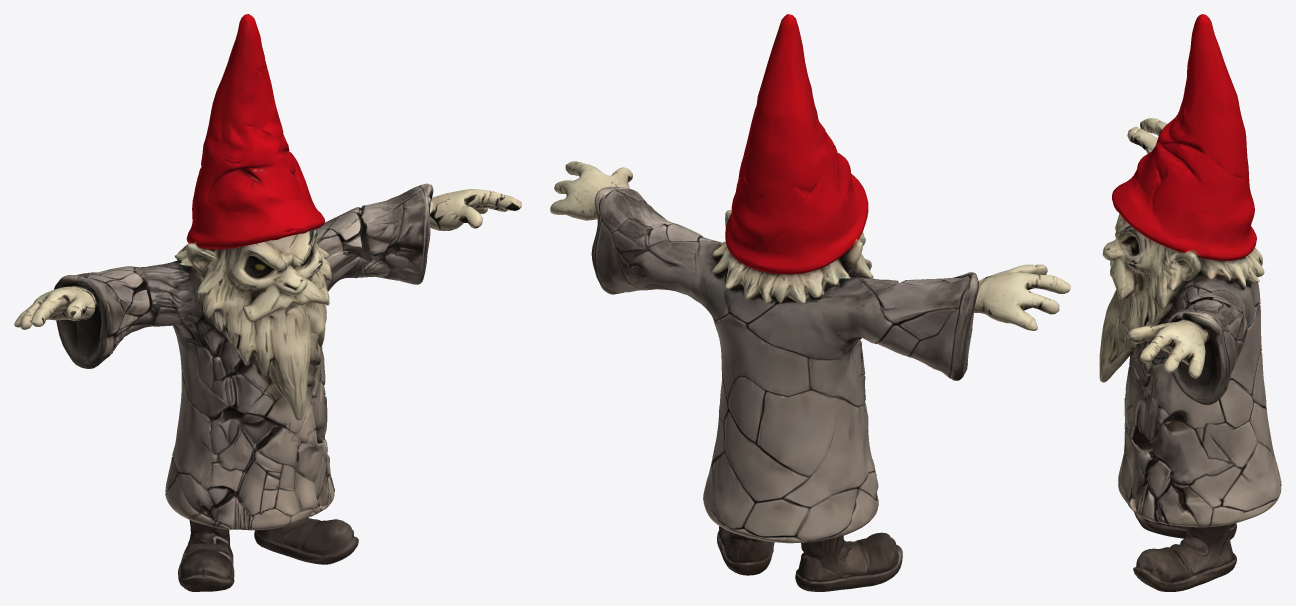
File: lawn_gnome_cultist.glb
3 renders of one model, left to right at view 1: azimuth 30°, elevation 25°; view 2: azimuth 150°, elevation 25°; view 3: azimuth 270°, elevation 25°, orthographic. The views are drawn at different scales.
Parts seen in each view (by area): view 1: lawn_gnome_cultist; view 2: lawn_gnome_cultist; view 3: lawn_gnome_cultist.
Part boxes in pixels (x1,y1,x2,y2): lawn_gnome_cultist: [14, 14, 521, 591]; lawn_gnome_cultist: [550, 14, 1070, 591]; lawn_gnome_cultist: [1099, 14, 1281, 591].
Bounding box in the file's own units: 0.9439 × 1 × 0.3055.
Materials: 1 (1 with a texture image).
